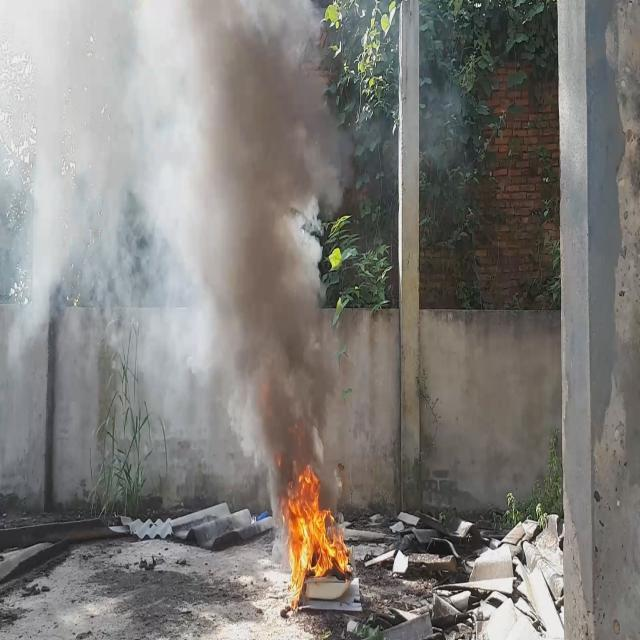Fire: (282, 460, 353, 608)
Smoke: (0, 0, 352, 516)
